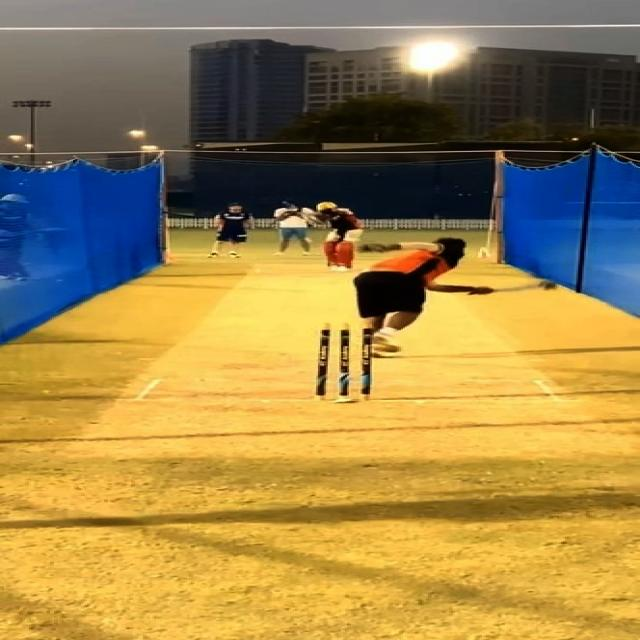batsman: (302, 200, 364, 272)
